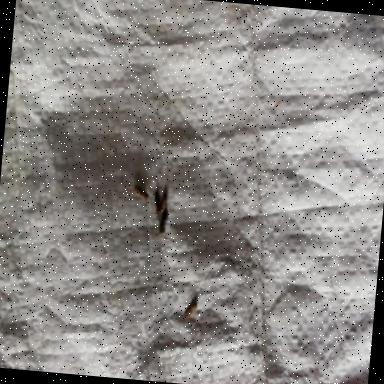pbw: (184, 300, 196, 320), (134, 184, 148, 198), (160, 195, 166, 211)
